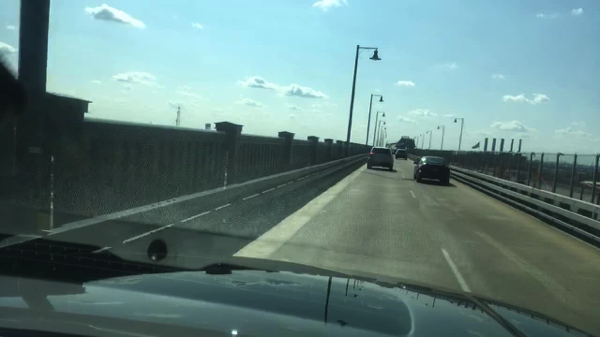car: (412, 155, 450, 184), (366, 146, 393, 173), (395, 148, 408, 160), (391, 148, 396, 153)
